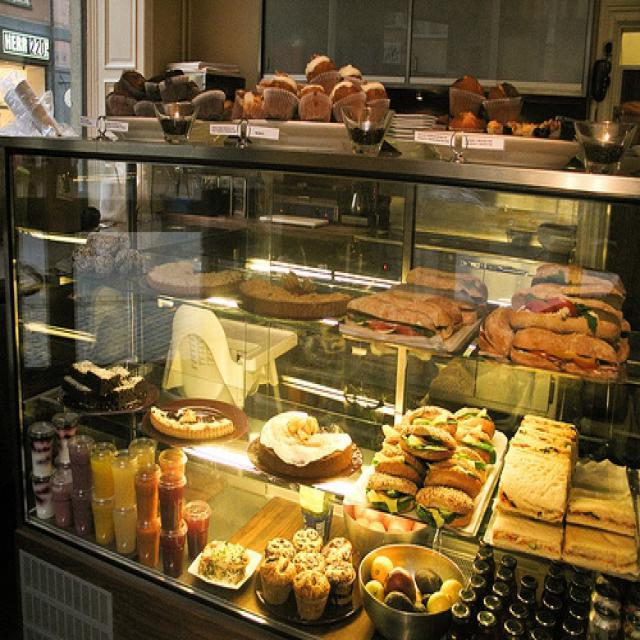2006: (49, 0, 88, 135)
cake occluded: (253, 404, 353, 478), (148, 403, 233, 439)
cakes: (61, 355, 146, 410)
cupboards: (253, 0, 595, 150)
door opening: (570, 0, 636, 435)
muffin: (483, 79, 522, 123), (448, 73, 484, 116)
muffins: (233, 53, 385, 121), (259, 526, 353, 616), (102, 63, 228, 116)
sandwich: (511, 326, 620, 379), (342, 297, 439, 348), (490, 510, 562, 556), (568, 485, 634, 531), (413, 483, 471, 529), (401, 420, 452, 461)
showcase occluded: (1, 128, 637, 637)
wall clock: (1, 0, 182, 135), (183, 2, 259, 130)
